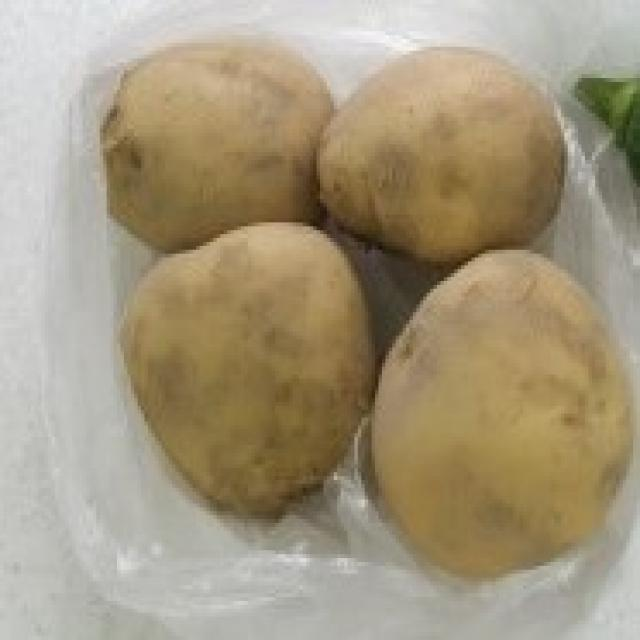potato: (372, 236, 632, 584), (117, 219, 378, 516), (316, 42, 568, 264), (99, 38, 350, 246)
